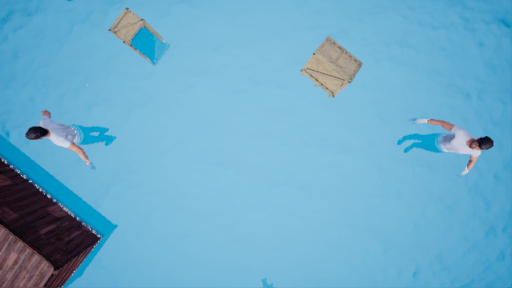person: (397, 114, 498, 185), (27, 111, 124, 169)
